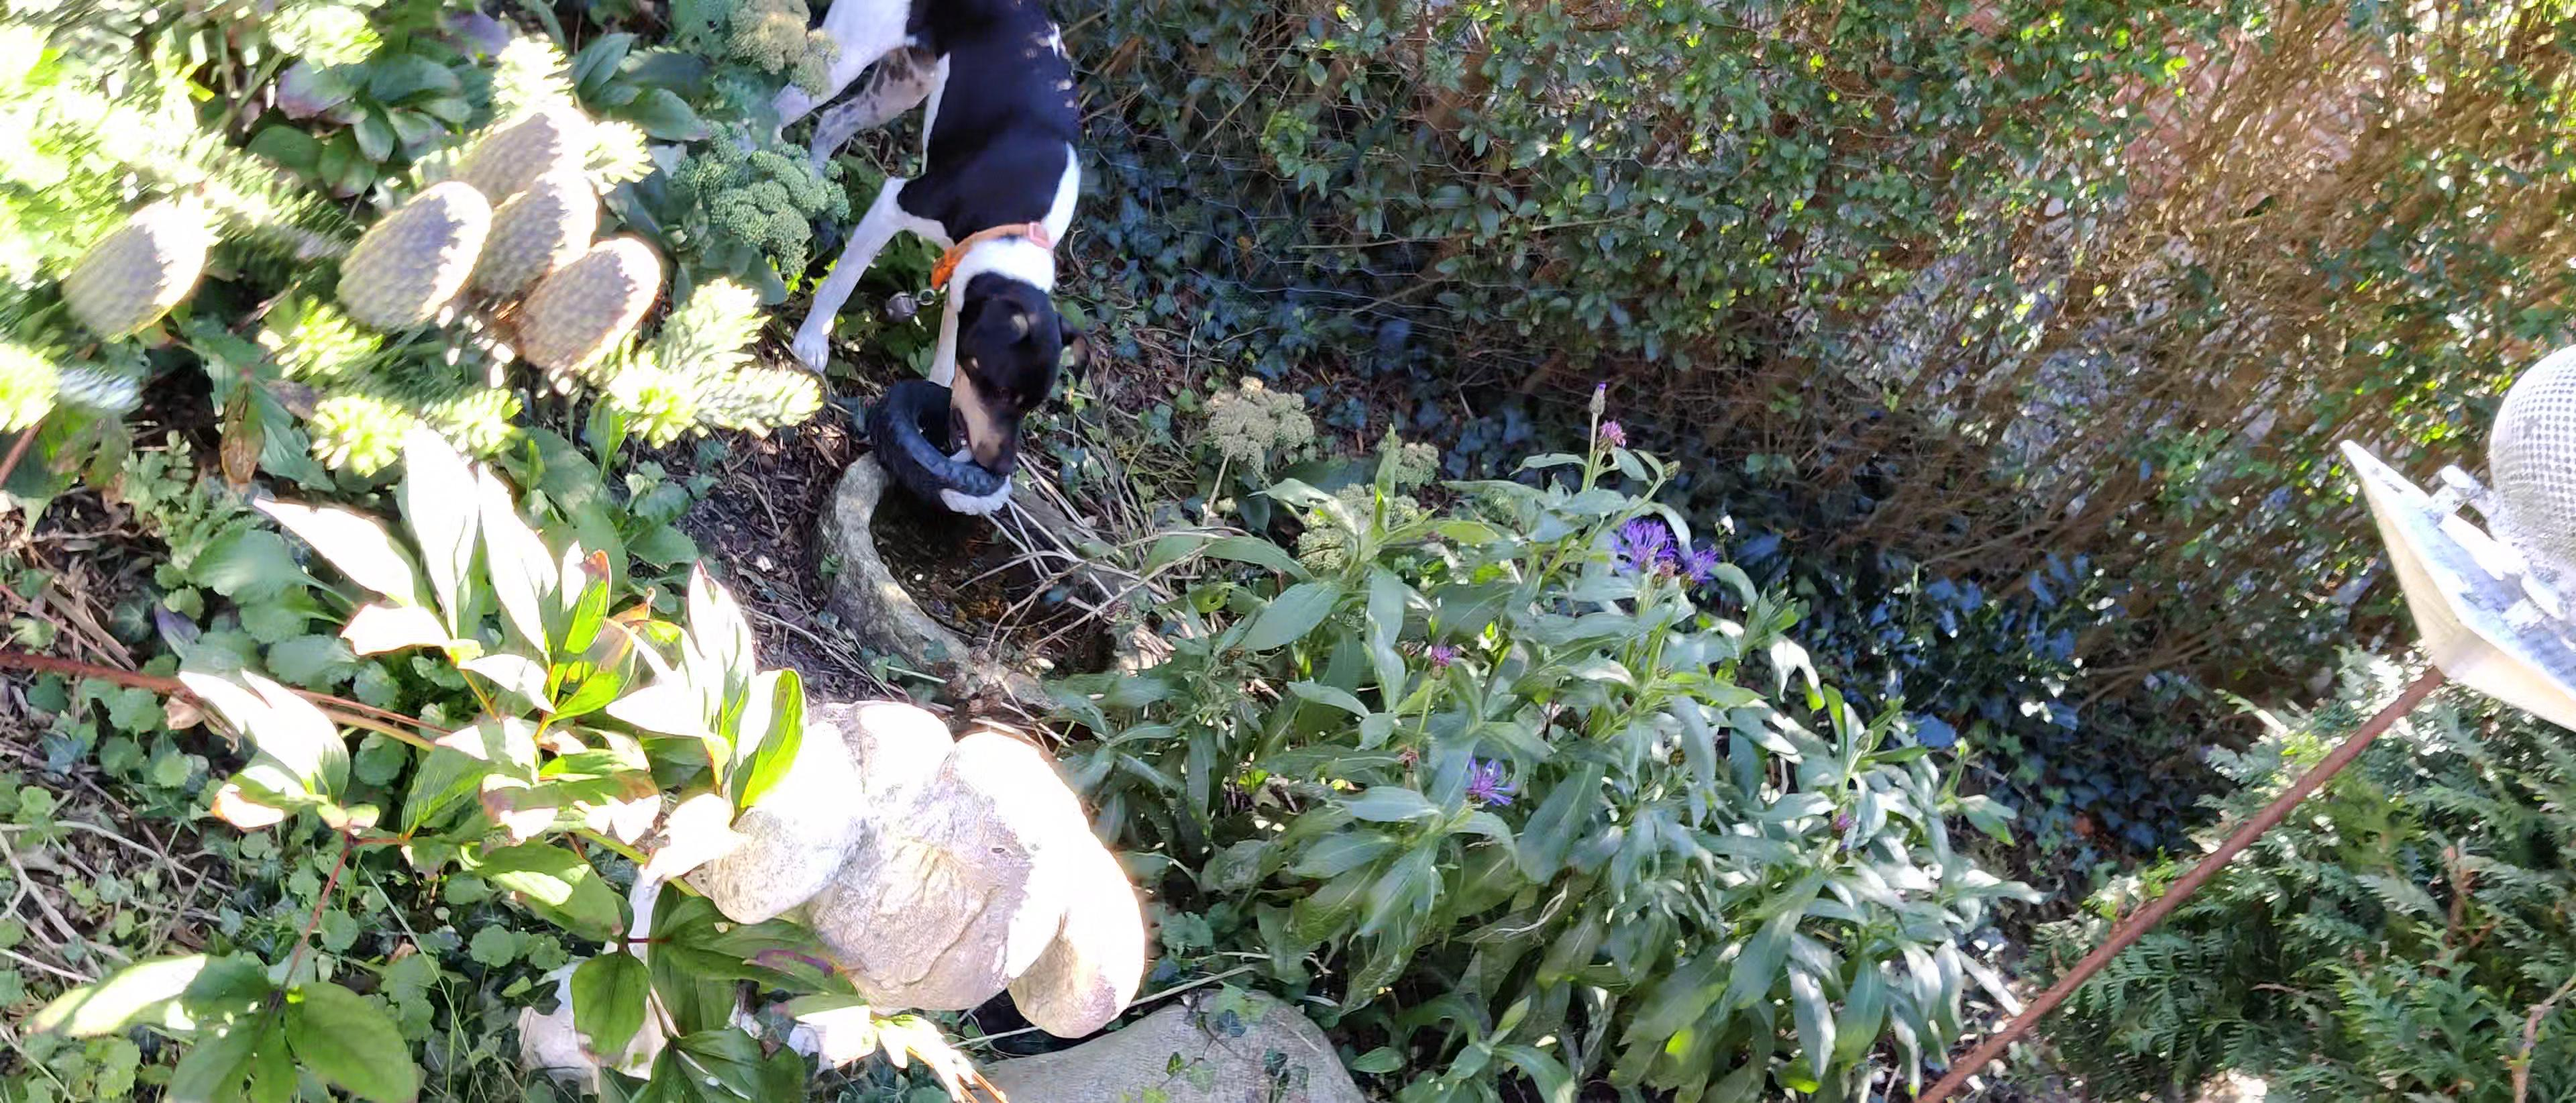Dog: (761, 0, 1092, 473)
